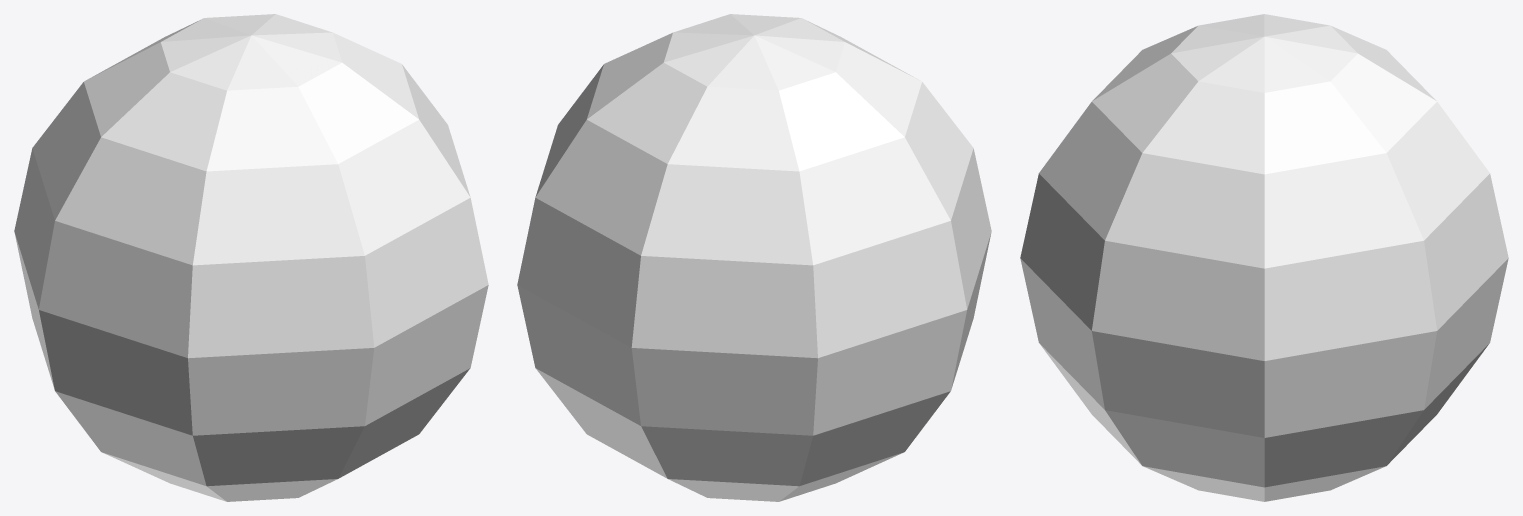
Rendered from pickuporb.fbx.
3 views of the same model, side by side, from view 1: azimuth 30°, elevation 25°; view 2: azimuth 150°, elevation 25°; view 3: azimuth 270°, elevation 25° (orthographic).
Parts seen in each view (by area): view 1: pSphere1; view 2: pSphere1; view 3: pSphere1.
Part boxes in pixels (left/top/right/bottom): pSphere1: left=14, top=14, right=488, bottom=501; pSphere1: left=517, top=14, right=991, bottom=501; pSphere1: left=1020, top=14, right=1508, bottom=501.
Bounding box in the file's own units: 2.27 × 2.27 × 2.27.
2 materials, 2 textured.
